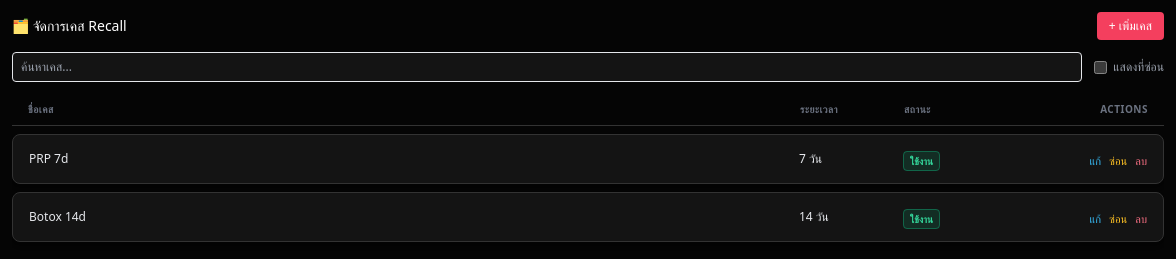
Test: Phase 29.22 · L9 — RecallCasesAdminPanel › L9.4 search filter (case-insensitive substring)
This screenshot has width=1176, height=259.
Check: the text "PRP 7d" is shown, box x1=29 y1=150 x2=68 y2=167
Type "BOTOX" into the field with placeholder "ค้นหาเคส...".
click(547, 67); type("BOTOX")  # box x1=12 y1=52 x2=1082 y2=82
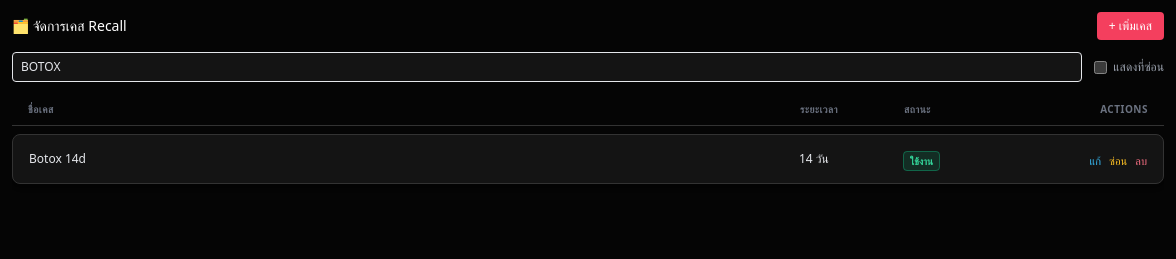
Check: the text "Botox 14d" is shown, box x1=29 y1=150 x2=86 y2=167
Check: the text "PRP 7d" is gone
